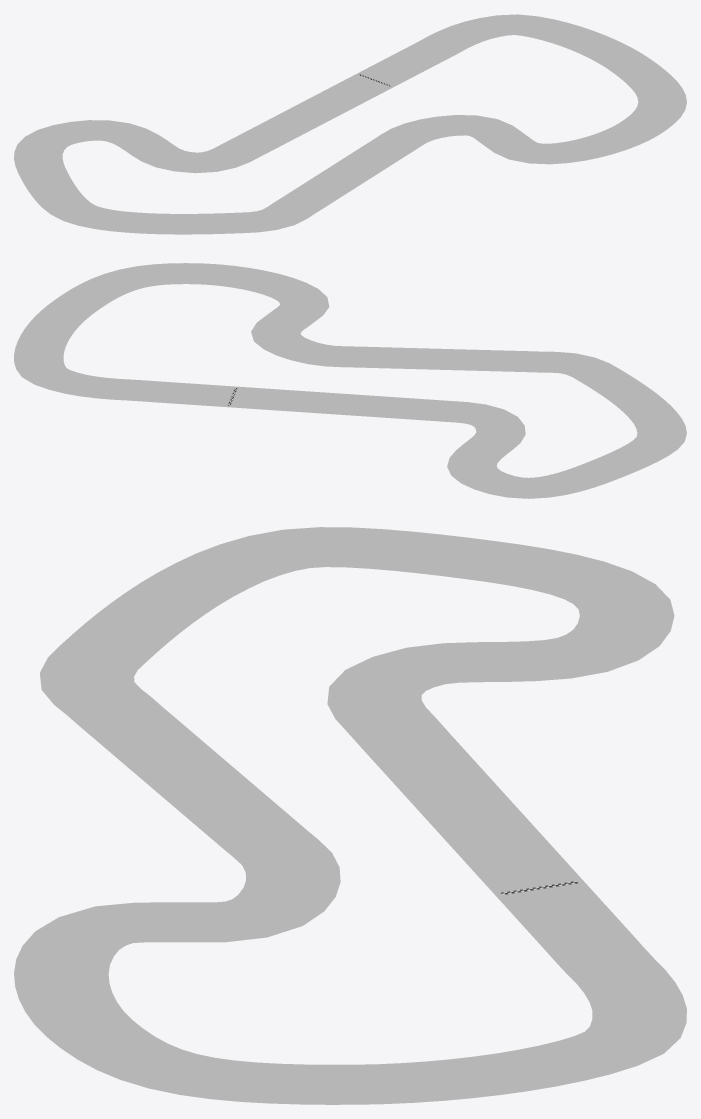
Rendered from 2022_june_open.dae.
The picture shows the model from 3 angles, top to bottom: view 1: azimuth 30°, elevation 25°; view 2: azimuth 150°, elevation 25°; view 3: azimuth 270°, elevation 25°; orthographic projection. The views are drawn at different scales.
Parts seen in each view (by area): view 1: road, ol, il, cl; view 2: road, ol, il, cl; view 3: road, ol, il, cl.
Boxes of the visible parts, left/top/right/bottom form: road: left=17, top=16, right=683, bottom=234; ol: left=14, top=14, right=686, bottom=234; il: left=59, top=33, right=641, bottom=215; cl: left=37, top=24, right=662, bottom=224; road: left=17, top=264, right=683, bottom=497; ol: left=14, top=263, right=686, bottom=498; il: left=60, top=282, right=640, bottom=479; cl: left=38, top=273, right=662, bottom=488; road: left=20, top=530, right=680, bottom=1104; ol: left=14, top=527, right=686, bottom=1104; il: left=102, top=564, right=599, bottom=1067; cl: left=60, top=546, right=640, bottom=1085.
Size of what is drawn, in the model's own units: 15.4 by 7.58 by 0.0015.
